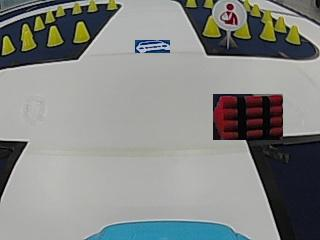cone: (260, 12, 275, 40), (21, 24, 36, 49), (73, 21, 90, 43), (203, 16, 220, 37), (47, 26, 63, 46), (286, 25, 301, 44), (235, 20, 250, 39), (1, 35, 15, 54), (275, 16, 286, 31), (34, 16, 45, 30), (87, 0, 98, 12), (105, 0, 117, 10), (45, 10, 55, 22), (71, 2, 81, 14), (55, 5, 65, 16), (185, 0, 197, 8), (203, 0, 213, 8)
patient: (215, 1, 243, 27)
